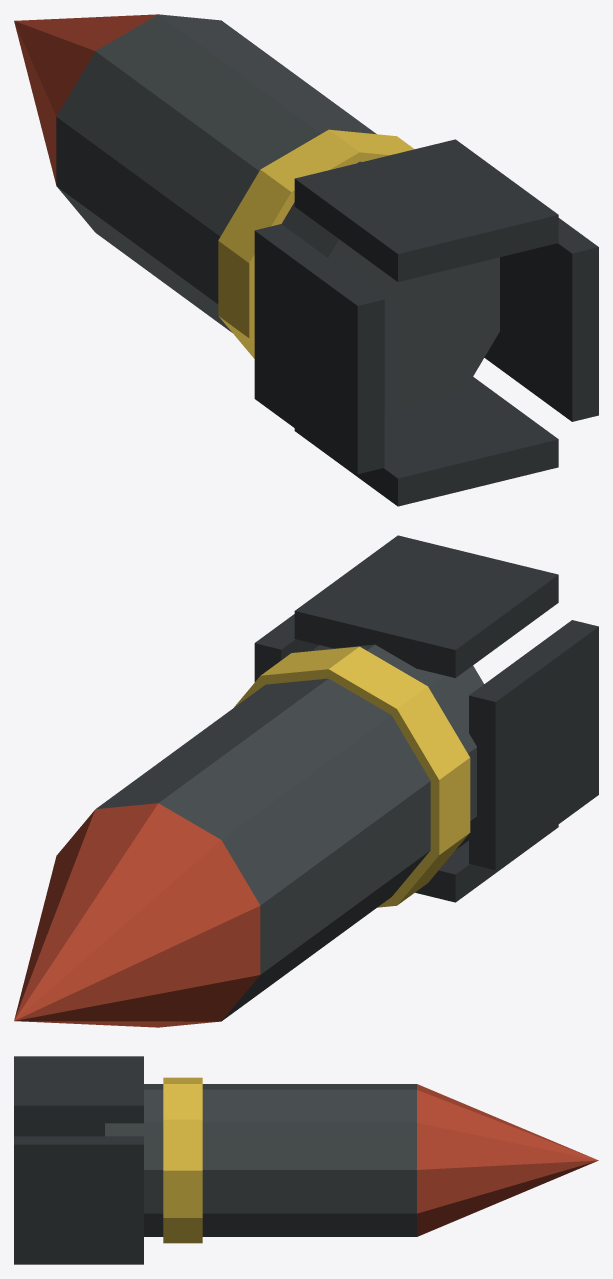
The model's file is shell.glb.
3 views of the same model, one above another, from view 1: azimuth 30°, elevation 25°; view 2: azimuth 150°, elevation 25°; view 3: azimuth 270°, elevation 25° (orthographic). The views are drawn at different scales.
Visible parts, largest first — view 1: shell; view 2: shell; view 3: shell.
Boxes of the visible parts, left/top/right/bottom form: shell: left=14, top=14, right=598, bottom=506; shell: left=14, top=535, right=598, bottom=1027; shell: left=14, top=1056, right=598, bottom=1264.
Size of the model in its own units: 0.135 by 0.135 by 0.45.
Materials: 1 (1 with a texture image).
